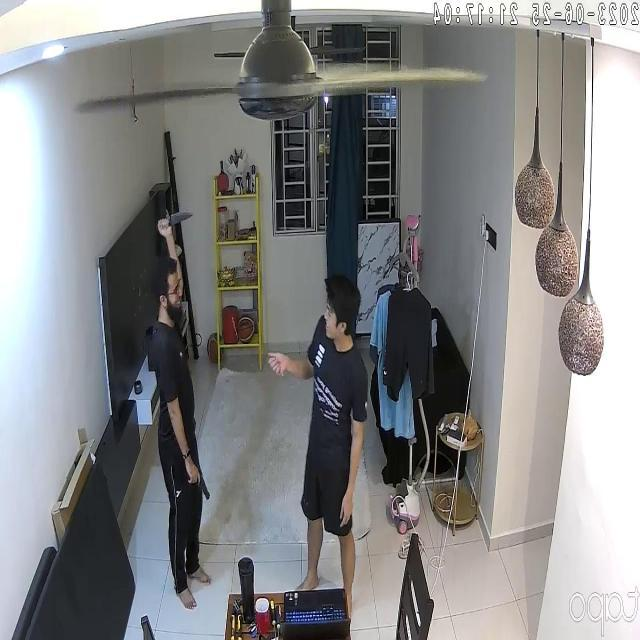Gun: (188, 452, 224, 514)
Knife: (149, 198, 210, 242)
